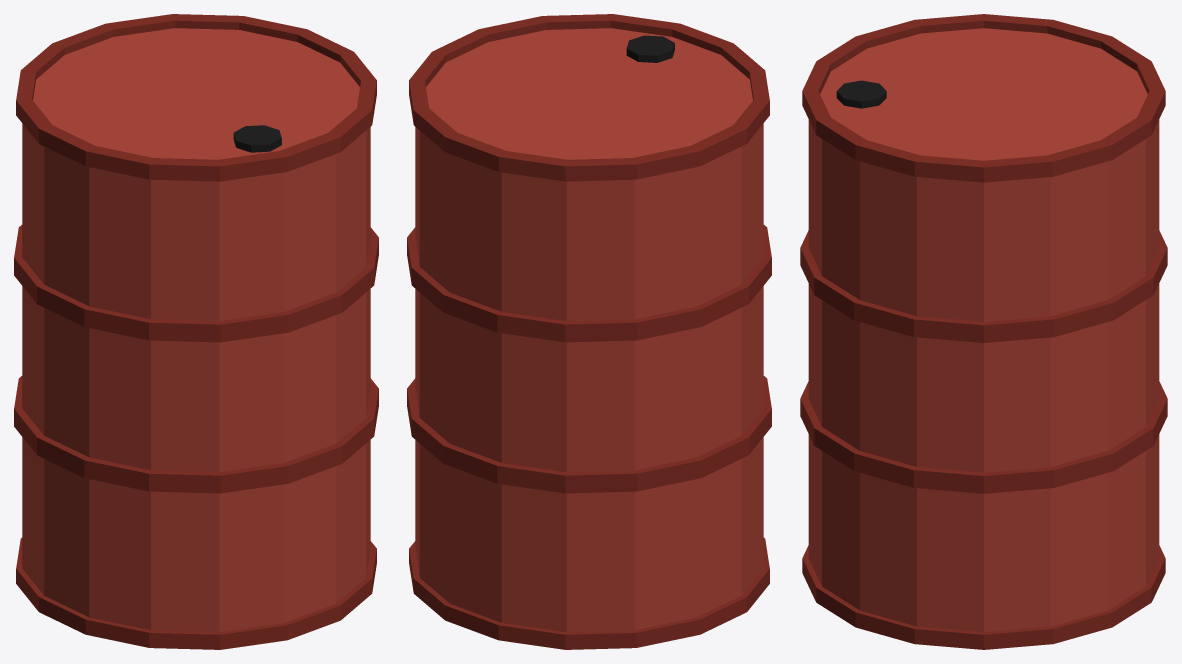
The model's file is SM_Props_Barrel_02.glb.
The picture shows the model from 3 angles, left to right: view 1: azimuth 30°, elevation 25°; view 2: azimuth 150°, elevation 25°; view 3: azimuth 270°, elevation 25°; orthographic projection.
Visible parts, largest first — view 1: SM_Props_Barrel_02; view 2: SM_Props_Barrel_02; view 3: SM_Props_Barrel_02.
Part boxes in pixels (<box>): SM_Props_Barrel_02: <box>14,14,378,649</box>; SM_Props_Barrel_02: <box>407,14,771,649</box>; SM_Props_Barrel_02: <box>800,14,1167,649</box>.
Size of the model in its own units: 0.607 by 0.88 by 0.607.
Materials: 1 (1 with a texture image).
